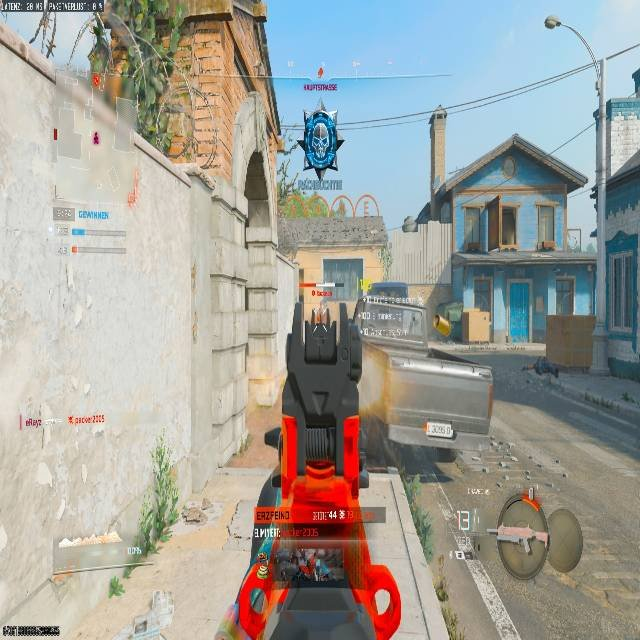player: (297, 108, 342, 182)
